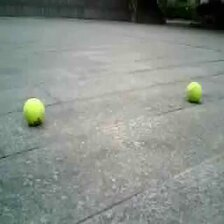tennis: (23, 97, 46, 124), (186, 82, 202, 102)
